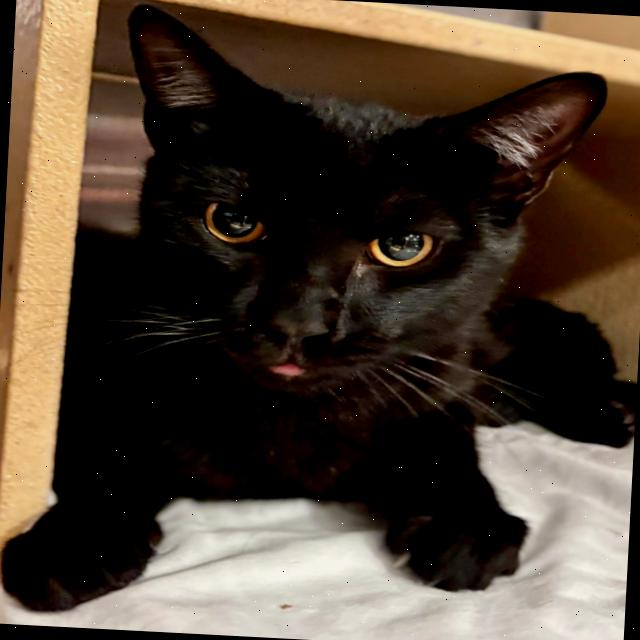bombay_cat: (43, 0, 626, 435)
